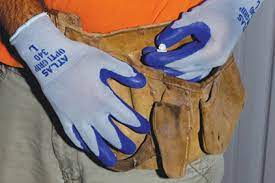gloves: (14, 11, 154, 165), (145, 3, 258, 89)
